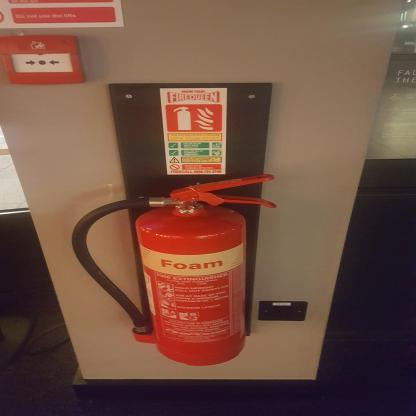Fire Extinguisher: (67, 171, 308, 373)
